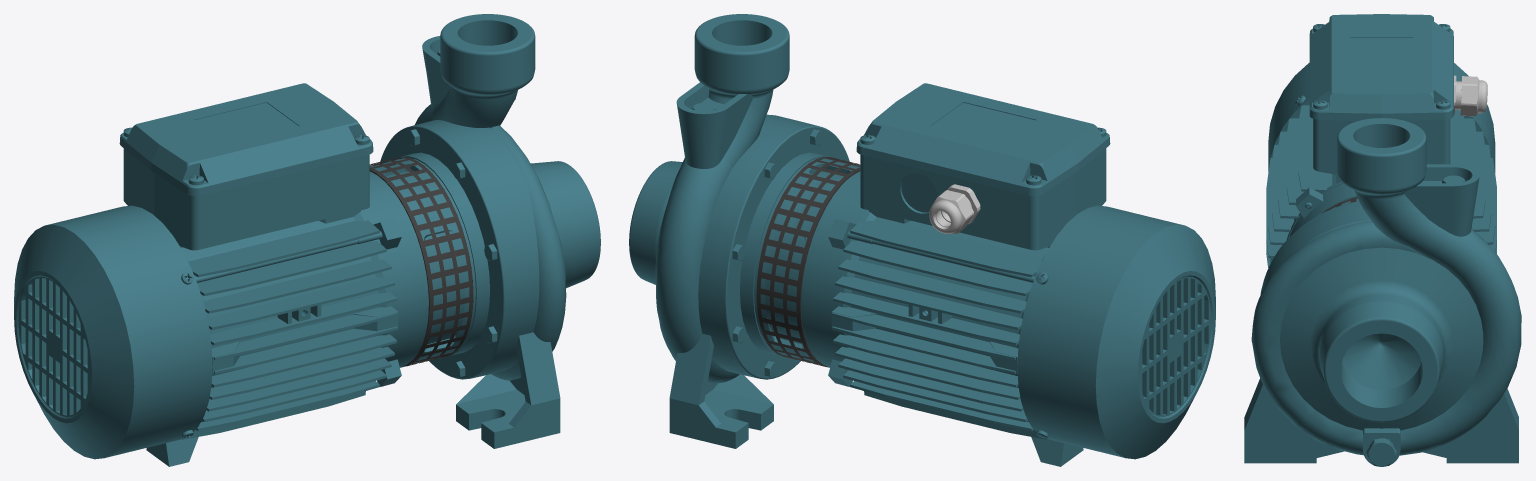
Rendered from Calpeda NM10 SE SA (1).glb.
The picture shows the model from 3 angles, left to right: view 1: azimuth 30°, elevation 25°; view 2: azimuth 150°, elevation 25°; view 3: azimuth 270°, elevation 25°; orthographic projection. The views are drawn at different scales.
Visible parts, largest first — view 1: 69266, 69253; view 2: 69266, 69253; view 3: 69266.
Boxes of the visible parts, x1,y1,x2,y2 form: 69266: (14, 14, 600, 466); 69253: (369, 157, 473, 367); 69266: (629, 14, 1215, 466); 69253: (756, 157, 860, 367); 69266: (1244, 14, 1521, 466).
Bounding box in the file's own units: 0.391 × 0.25 × 0.1917.
